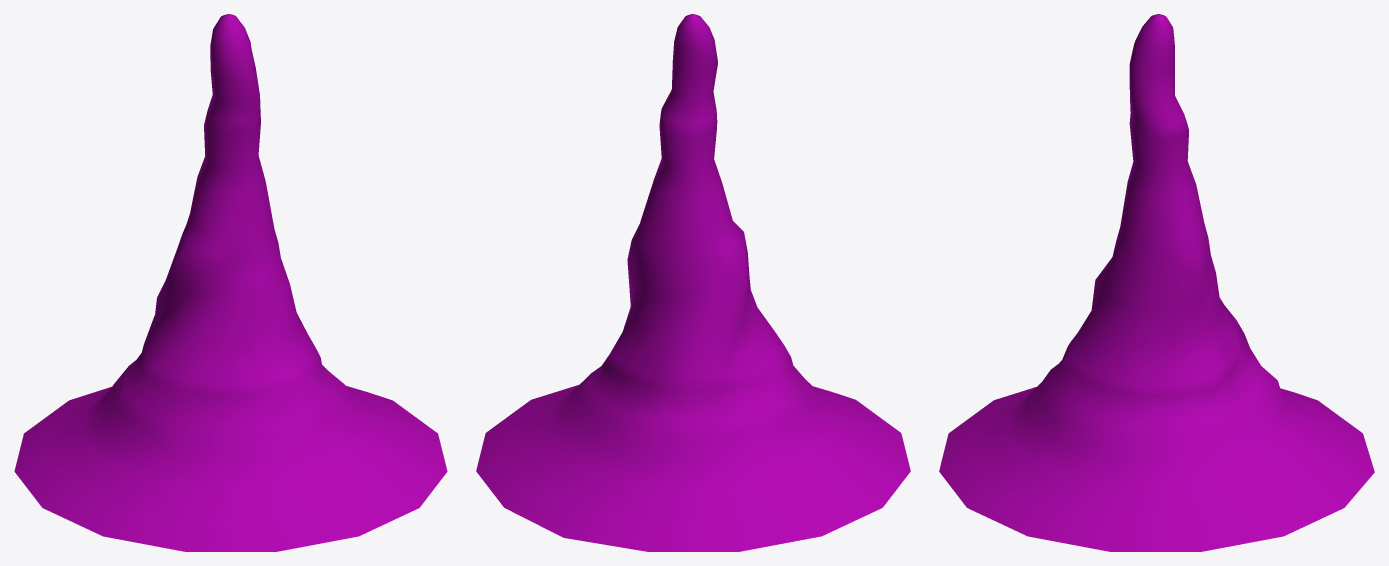
Rendered from Stalagmite_B.fbx.
3 renders of one model, left to right at view 1: azimuth 30°, elevation 25°; view 2: azimuth 150°, elevation 25°; view 3: azimuth 270°, elevation 25°, orthographic.
Parts seen in each view (by area): view 1: Stalagmite_B; view 2: Stalagmite_B; view 3: Stalagmite_B.
Boxes of the visible parts, bbox=[...] form: Stalagmite_B: bbox=[14, 14, 447, 551]; Stalagmite_B: bbox=[476, 14, 910, 551]; Stalagmite_B: bbox=[939, 14, 1374, 551].
Bounding box in the file's own units: 30.3 × 34.7 × 30.63.
